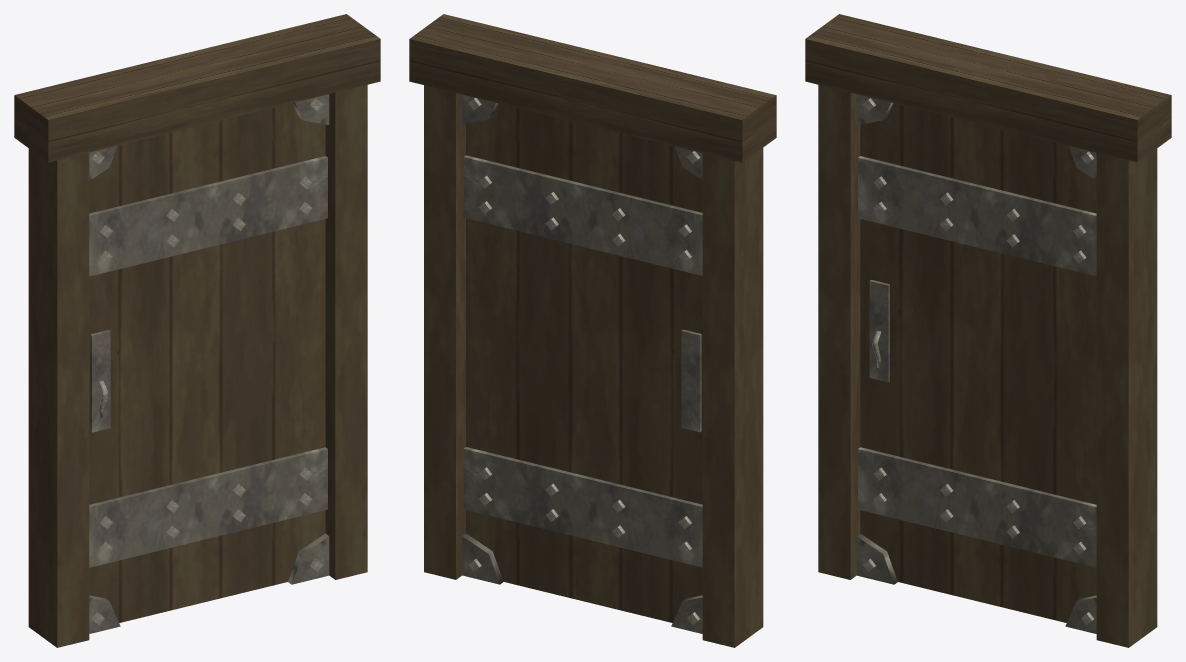
File: door01.glb
The picture shows the model from 3 angles, left to right: view 1: azimuth 30°, elevation 25°; view 2: azimuth 150°, elevation 25°; view 3: azimuth 330°, elevation 25°; orthographic projection.
Visible parts, largest first — view 1: door01; view 2: door01; view 3: door01.
Boxes of the visible parts, <box> form: door01: <box>14,14,380,647</box>; door01: <box>409,14,776,647</box>; door01: <box>805,14,1171,647</box>.
Bounding box in the file's own units: 1.35 × 2.06 × 0.24.
3 materials, 3 textured.
